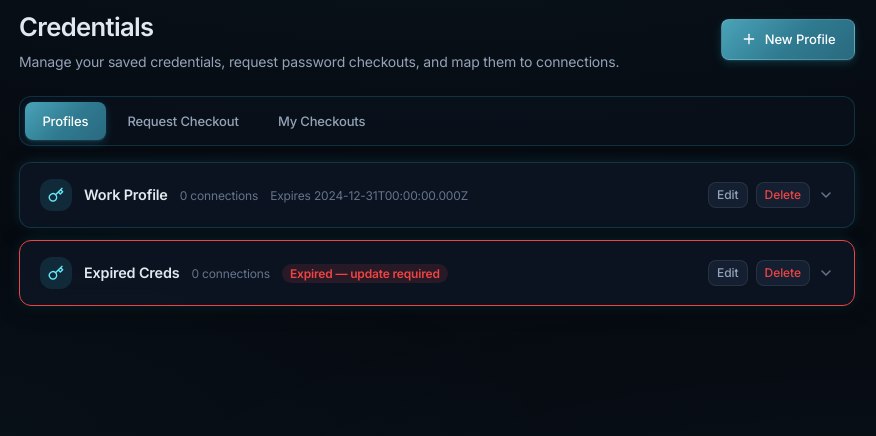
Scenario: Credentials › shows "No connections mapped" when profile has no mappings
This screenshot has width=876, height=436.
What coordinates should you click on to do the following:
click the text "Work Profile"
I would click on:
 (126, 195)
Its box is [84,186,168,203].
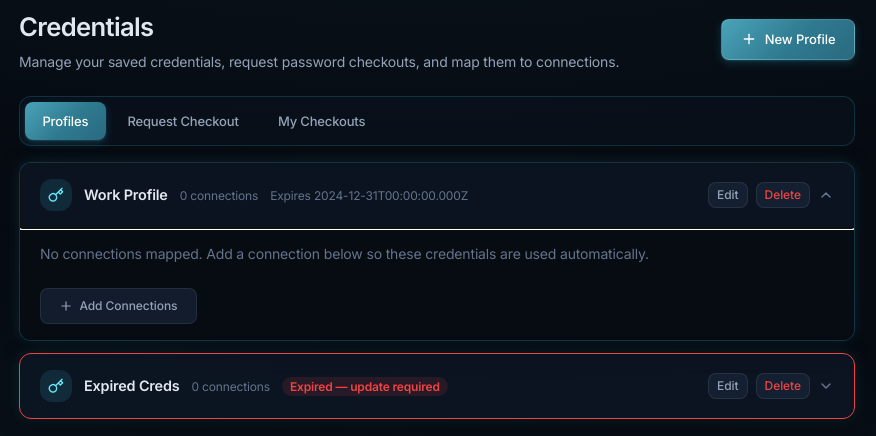
Now the text "No connections mapped" is shown, box [40,245,649,262]
